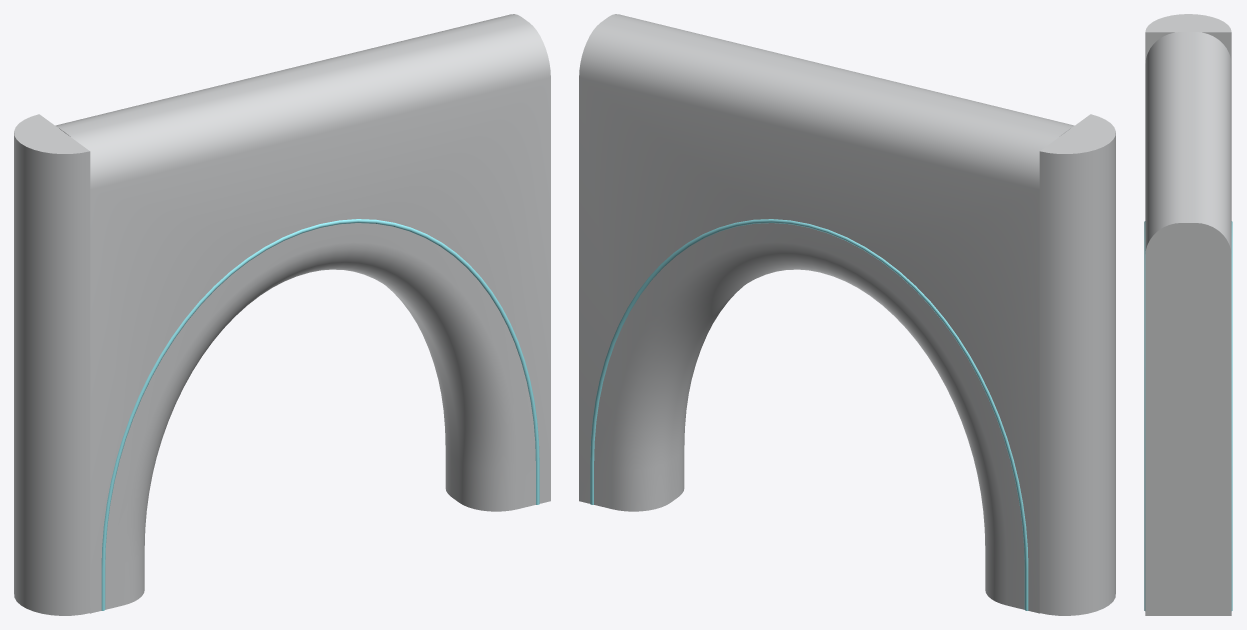
Rendered from Arch_R2D01_InflatedPillow.fbx.
The picture shows the model from 3 angles, left to right: view 1: azimuth 30°, elevation 25°; view 2: azimuth 150°, elevation 25°; view 3: azimuth 270°, elevation 25°; orthographic projection. The views are drawn at different scales.
Visible parts, largest first — view 1: Arch_R2D01_InflatedPillow; view 2: Arch_R2D01_InflatedPillow; view 3: Arch_R2D01_InflatedPillow.
Boxes of the visible parts, x1,y1,x2,y2 form: Arch_R2D01_InflatedPillow: (14,14,550,615); Arch_R2D01_InflatedPillow: (579,14,1115,615); Arch_R2D01_InflatedPillow: (1144,14,1232,615).
Size of the model in its own units: 2.29 by 2.01 by 0.409.
